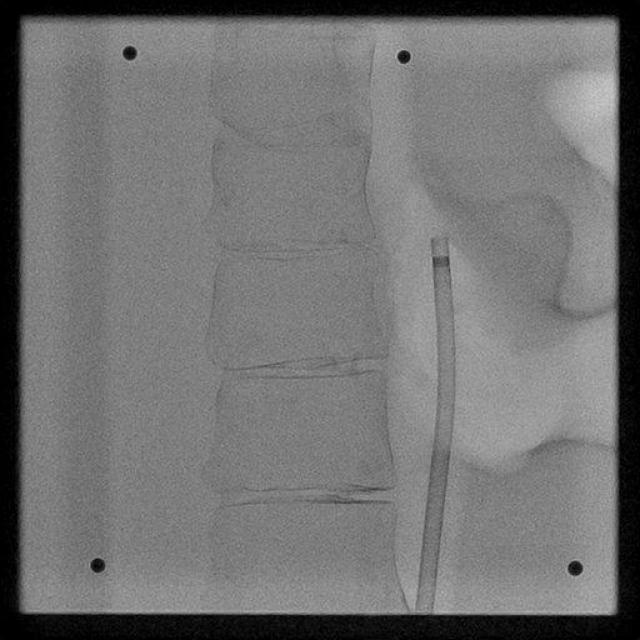bend: (434, 432, 451, 446)
entry: (416, 605, 434, 613)
marker: (432, 256, 450, 268)
tip: (432, 237, 448, 244)
